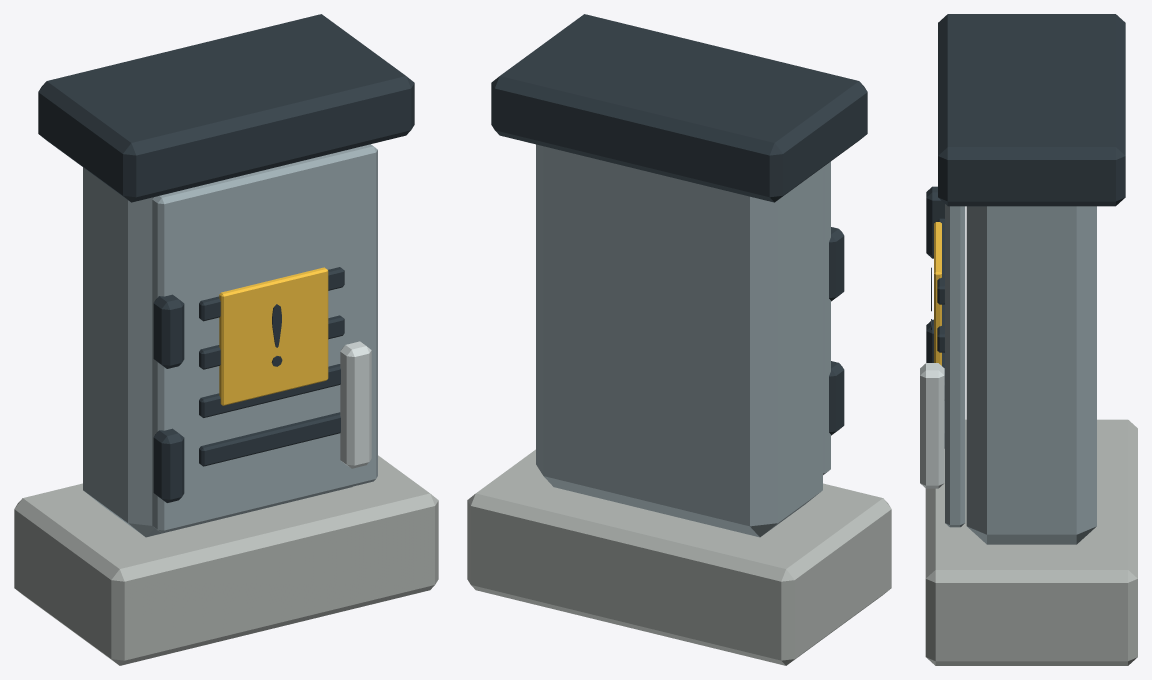
Rendered from Fuse_Box.glb.
3 renders of one model, left to right at view 1: azimuth 30°, elevation 25°; view 2: azimuth 150°, elevation 25°; view 3: azimuth 270°, elevation 25°, orthographic.
Parts seen in each view (by area): view 1: Fuse_Box; view 2: Fuse_Box; view 3: Fuse_Box.
Part boxes in pixels (bbox=[...]): Fuse_Box: bbox=[14, 14, 438, 665]; Fuse_Box: bbox=[467, 14, 891, 665]; Fuse_Box: bbox=[920, 14, 1137, 665].
Size of the model in its own units: 0.46 by 0.69 by 0.267.
